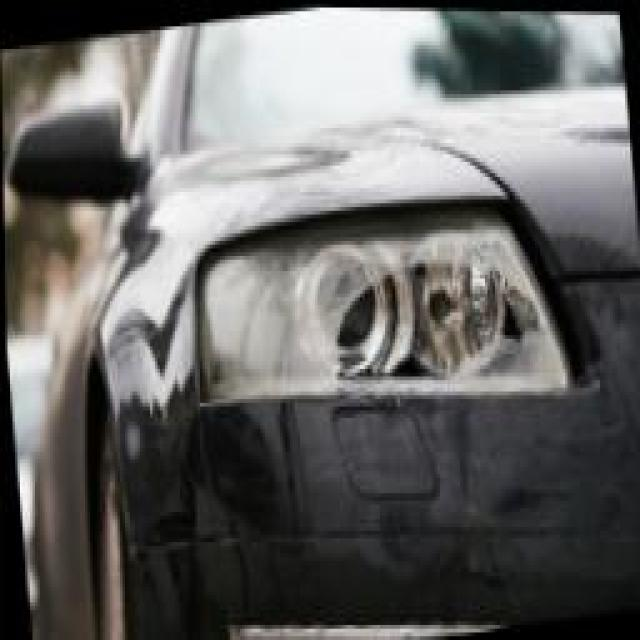Light: (205, 188, 566, 428)
